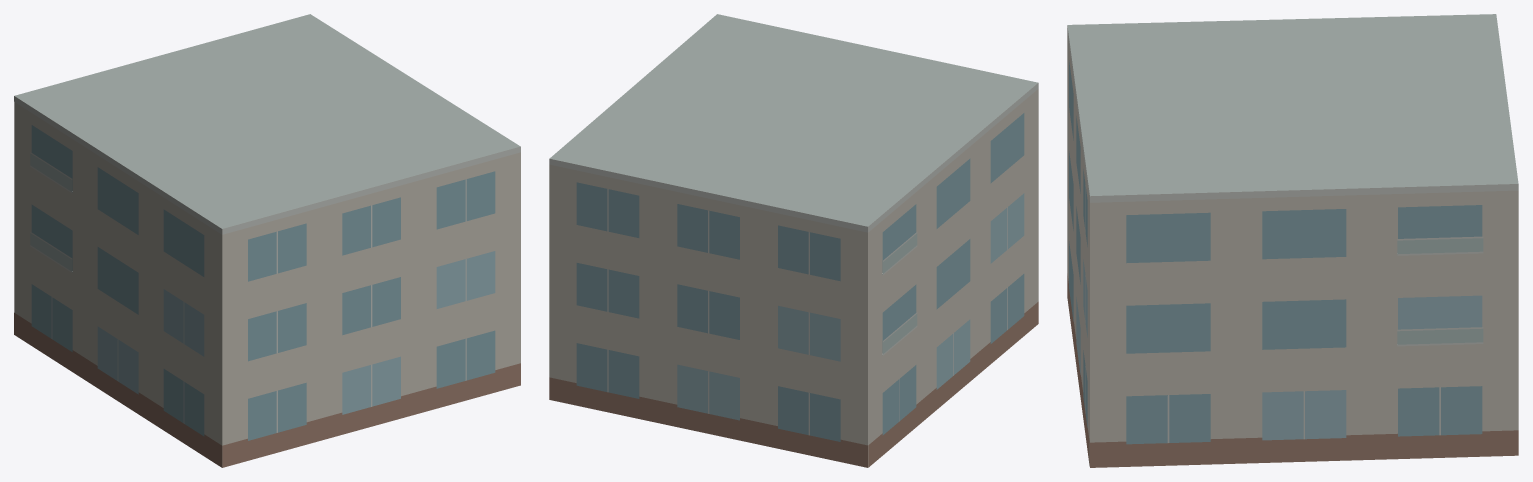
Rendered from survey-upis-32928143.glb.
The picture shows the model from 3 angles, left to right: view 1: azimuth 30°, elevation 25°; view 2: azimuth 150°, elevation 25°; view 3: azimuth 270°, elevation 25°; orthographic projection. The views are drawn at different scales.
Visible parts, largest first — view 1: survey-upis-32928143.tmp; view 2: survey-upis-32928143.tmp; view 3: survey-upis-32928143.tmp.
Part boxes in pixels (<box>): survey-upis-32928143.tmp: <box>14,14,520,467</box>; survey-upis-32928143.tmp: <box>549,14,1038,467</box>; survey-upis-32928143.tmp: <box>1067,14,1518,467</box>.
Size of the model in its own units: 14.34 by 9.97 by 15.01.
